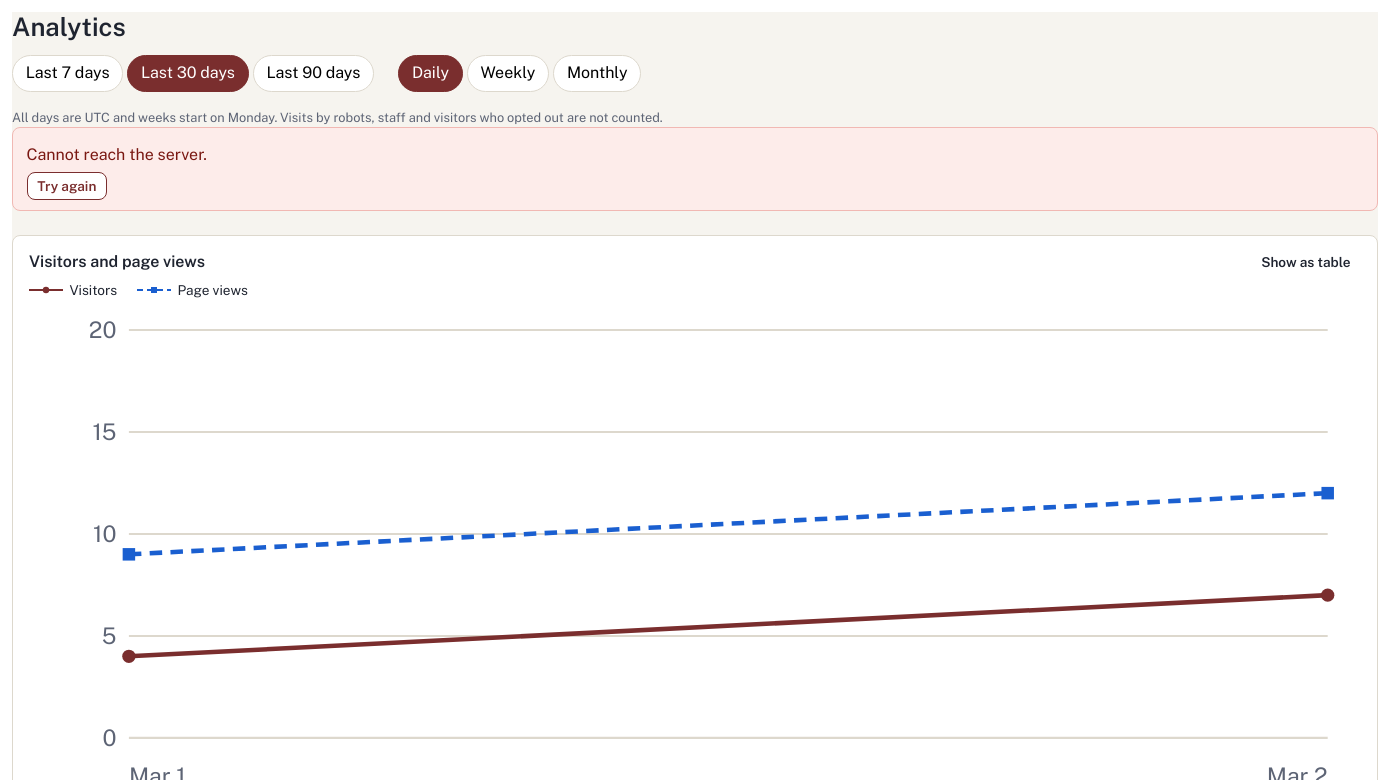
Scenario: AnalyticsPage › shows an error with a retry button when the data cannot be loaded
Expected: the message shows "Cannot reach the server.", [27, 145, 207, 164]
Click the button "Try again". click: [67, 186]
box: [27, 172, 107, 200]
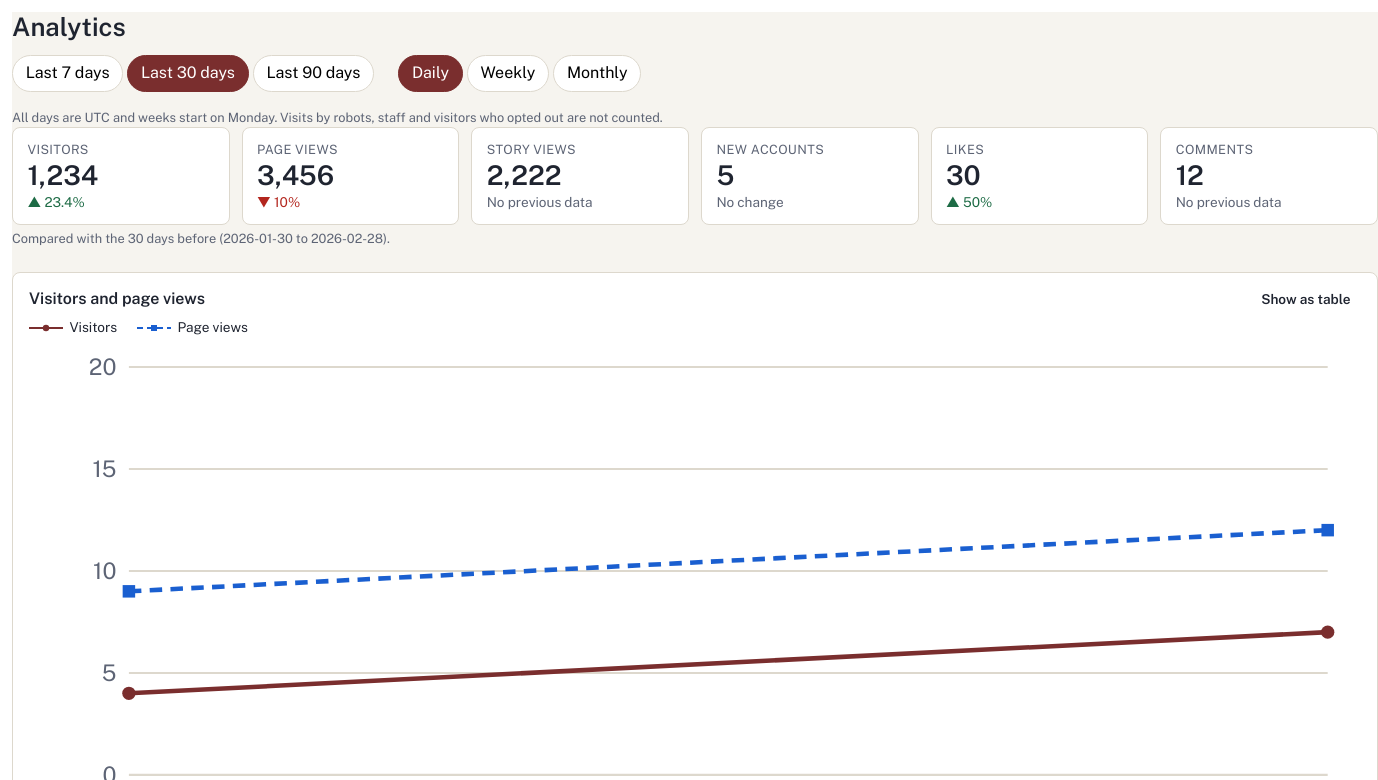
Expected: the message "Cannot reach the server. Try again" is gone
